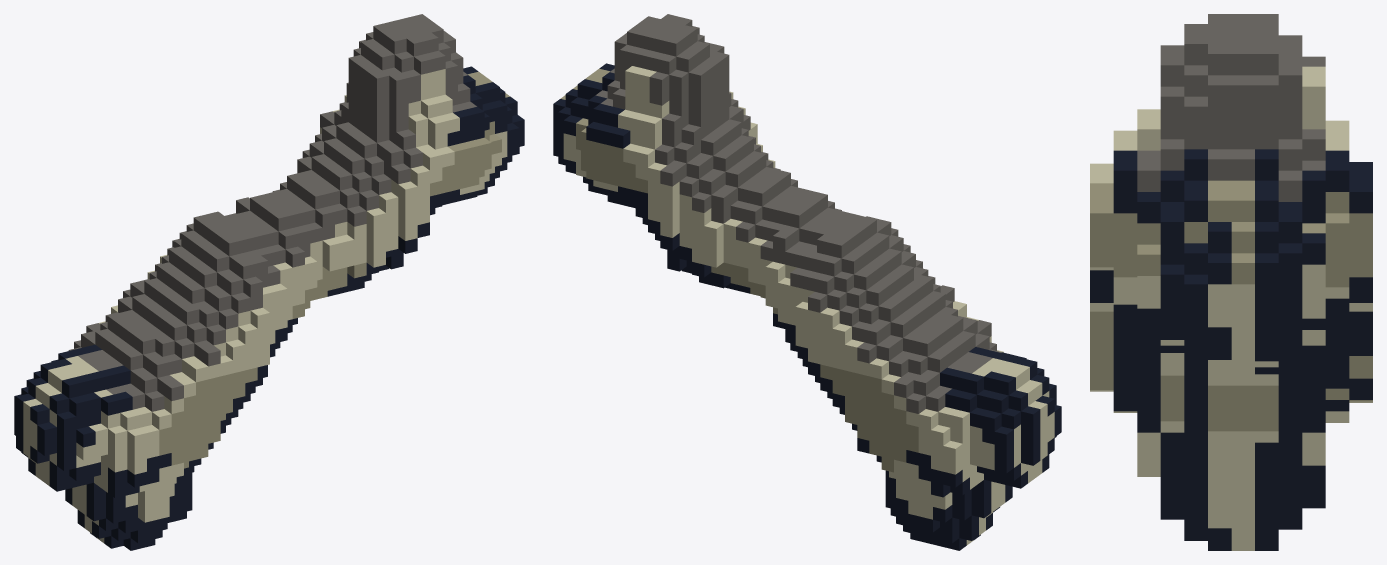
Rendered from Bones1.glb.
The picture shows the model from 3 angles, left to right: view 1: azimuth 30°, elevation 25°; view 2: azimuth 150°, elevation 25°; view 3: azimuth 270°, elevation 25°; orthographic projection. The views are drawn at different scales.
Parts seen in each view (by area): view 1: q0; view 2: q0; view 3: q0.
Part boxes in pixels (x1,y1,x2,y2): q0: (14,14,524,550); q0: (553,14,1061,550); q0: (1090,14,1372,550).
Size of the model in its own units: 39 by 34 by 12.
1 material, 1 textured.
